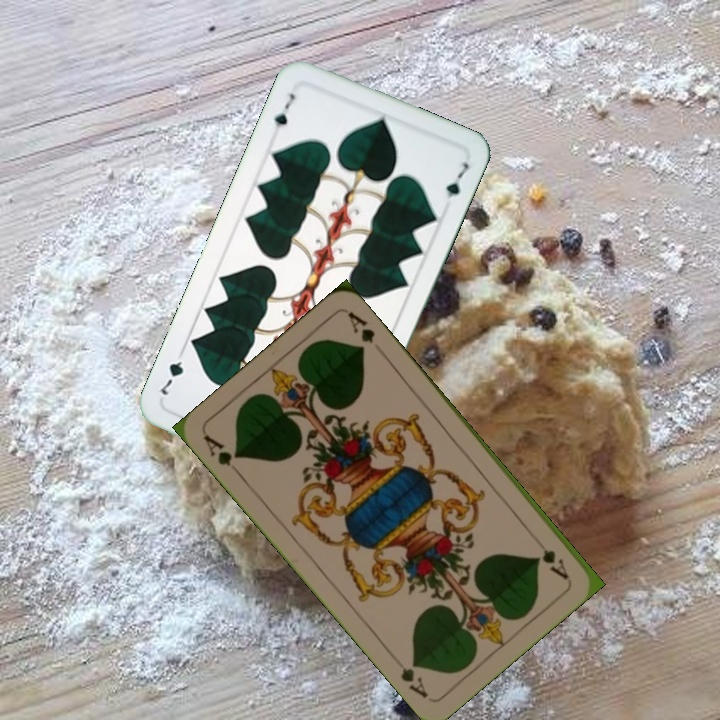G7: (270, 89, 298, 130)
GA: (200, 431, 245, 480), (528, 532, 571, 583)
